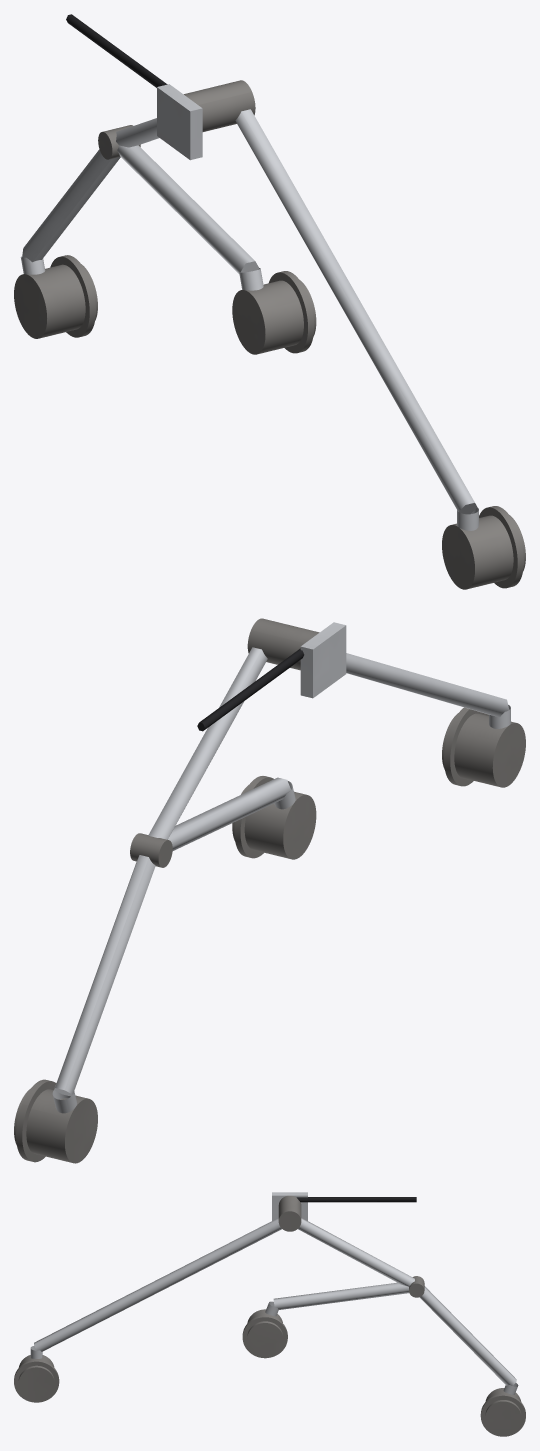
File: rover16_rocker_bogie_s_susp_up.glb
3 renders of one model, top to bottom at view 1: azimuth 30°, elevation 25°; view 2: azimuth 150°, elevation 25°; view 3: azimuth 270°, elevation 25°, orthographic. The views are drawn at different scales.
Parts seen in each view (by area): view 1: rocker, bogie_beam, bogie_flange_2, bogie_flange_3, wheel_flange_1, mount_plate, pivot, differential_link; view 2: bogie_beam, rocker, wheel_flange_1, bogie_flange_3, bogie_flange_2, mount_plate, pivot, differential_link, bogie_pivot; view 3: rocker, bogie_beam, bogie_flange_2, wheel_flange_1, bogie_flange_3, pivot, differential_link, mount_plate.
Boxes of the visible parts, bbox=[...] form: rocker: bbox=[116, 109, 478, 530]; bogie_beam: bbox=[20, 145, 263, 290]; bogie_flange_2: bbox=[232, 271, 316, 354]; bogie_flange_3: bbox=[14, 255, 97, 338]; wheel_flange_1: bbox=[442, 506, 525, 589]; mount_plate: bbox=[157, 84, 202, 160]; pivot: bbox=[184, 80, 255, 131]; differential_link: bbox=[66, 14, 167, 87]; bogie_beam: bbox=[52, 777, 295, 1113]; rocker: bbox=[148, 647, 510, 839]; wheel_flange_1: bbox=[442, 707, 525, 787]; bogie_flange_3: bbox=[14, 1079, 97, 1163]; bogie_flange_2: bbox=[232, 776, 316, 859]; mount_plate: bbox=[300, 622, 346, 698]; pivot: bbox=[247, 618, 319, 670]; differential_link: bbox=[197, 648, 304, 731]; bogie_pivot: bbox=[130, 833, 172, 867]; rocker: bbox=[30, 1218, 414, 1358]; bogie_beam: bbox=[265, 1282, 518, 1394]; bogie_flange_2: bbox=[242, 1309, 287, 1358]; wheel_flange_1: bbox=[14, 1355, 59, 1402]; bogie_flange_3: bbox=[480, 1388, 525, 1436]; pivot: bbox=[278, 1195, 301, 1231]; differential_link: bbox=[296, 1197, 416, 1202]; mount_plate: bbox=[272, 1192, 307, 1220].
Size of the model in its own units: 0.18 by 0.6664 by 1.41.
Materials: 3 (2 with a texture image).
